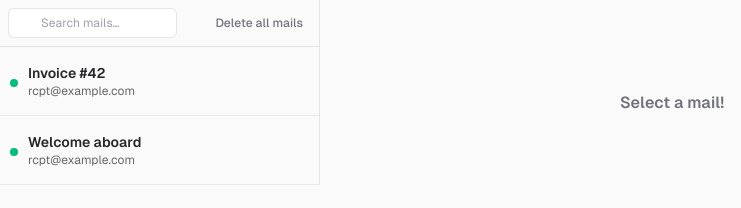
Scenario: Mailbox screen › delete all asks for confirmation and clears the mailbox
Click the button with aria-label "Delete all mails" at [248, 23], box [185,9,311,37]
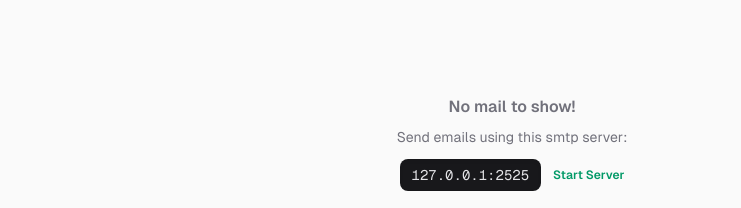
Result: the text "No mail to show!" is shown at [448,95,576,119]
